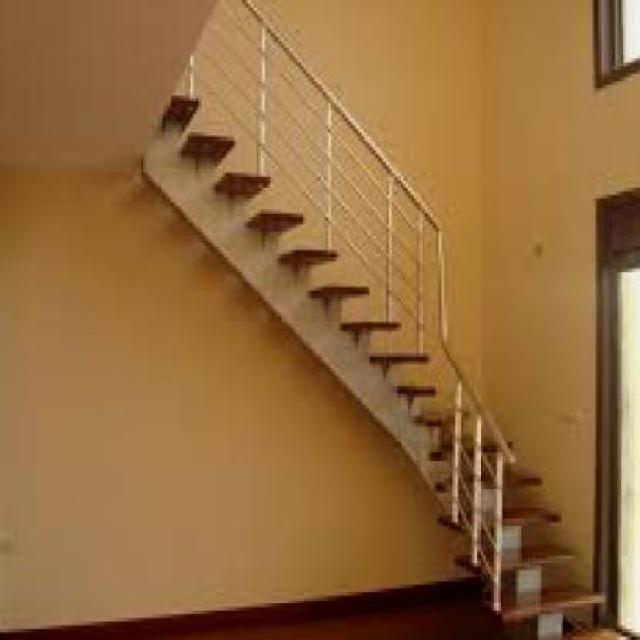stair: (107, 33, 638, 636)
